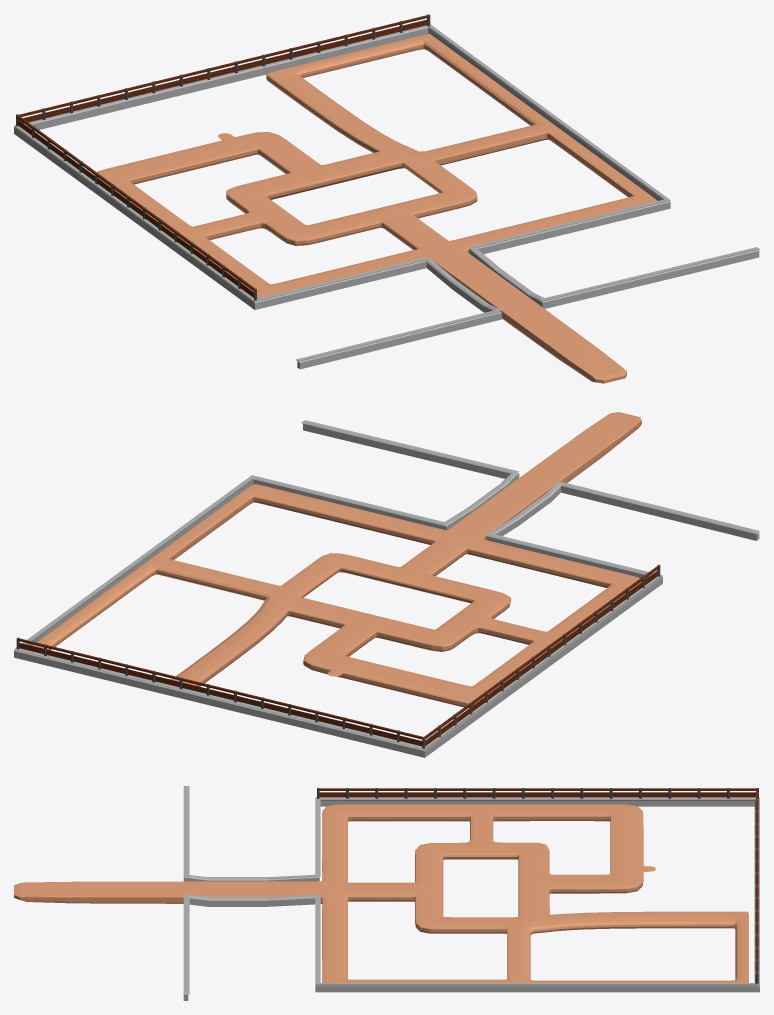
The model's file is Path_Level4.fbx.
3 renders of one model, top to bottom at view 1: azimuth 30°, elevation 25°; view 2: azimuth 150°, elevation 25°; view 3: azimuth 270°, elevation 25°, orthographic. The views are drawn at different scales.
Visible parts, largest first — view 1: Pad Level 4; view 2: Pad Level 4; view 3: Pad Level 4.
Boxes of the visible parts, x1,y1,x2,y2 form: Pad Level 4: [14, 14, 759, 383]; Pad Level 4: [14, 412, 759, 757]; Pad Level 4: [14, 786, 759, 1000].
Size of the model in its own units: 11385 by 536 by 17250.
